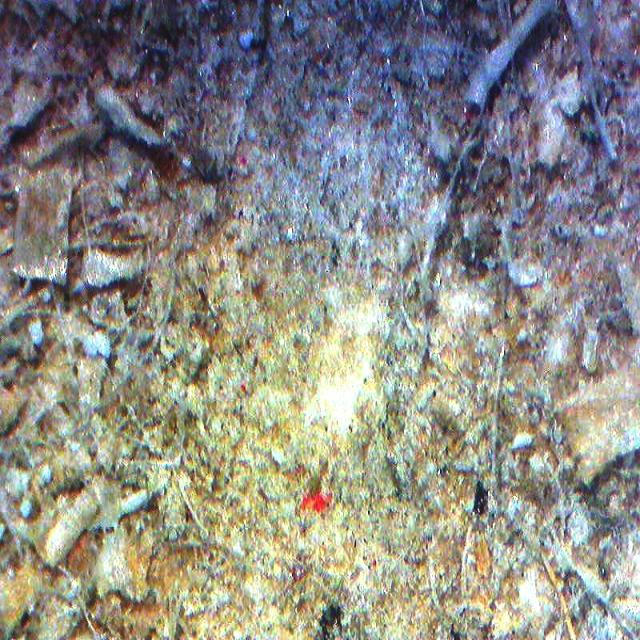microplastic: (301, 490, 332, 512)
